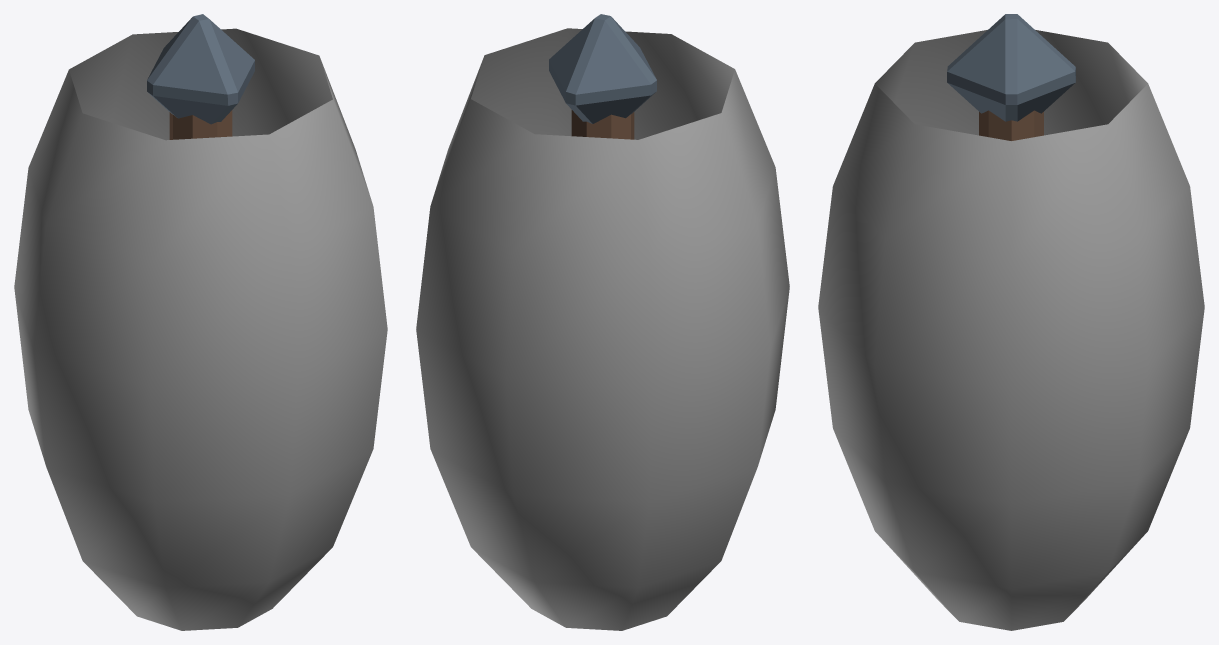
The model's file is ManaDagger.fbx.
3 renders of one model, left to right at view 1: azimuth 30°, elevation 25°; view 2: azimuth 150°, elevation 25°; view 3: azimuth 270°, elevation 25°, orthographic.
Visible parts, largest first — view 1: FX, Dagger; view 2: FX, Dagger; view 3: FX, Dagger.
Boxes of the visible parts, box(x1,y1,x2,y2) form: FX: box(14, 28, 387, 630); Dagger: box(147, 14, 254, 139); FX: box(416, 28, 789, 630); Dagger: box(549, 14, 656, 139); FX: box(818, 30, 1204, 630); Dagger: box(947, 14, 1075, 140).
Bounding box in the file's own units: 33.28 × 57.7 × 33.28.
